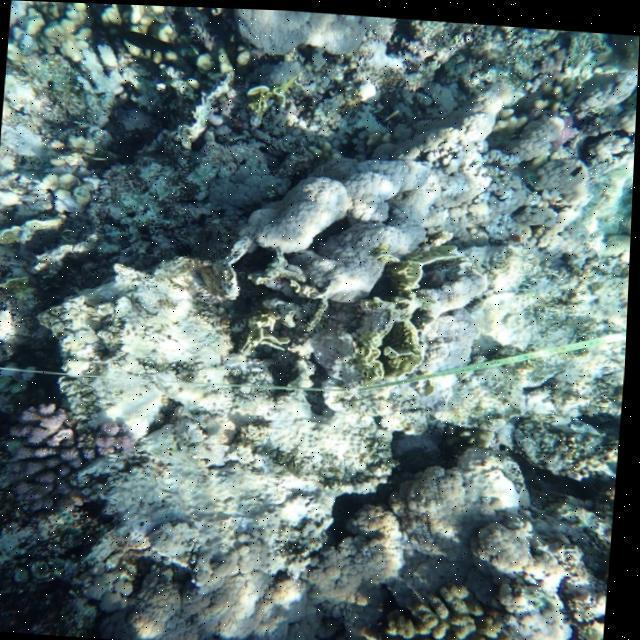Bleached Coral: (85, 425, 354, 640), (240, 118, 480, 300), (42, 244, 274, 416), (423, 452, 595, 640), (450, 78, 592, 250), (197, 6, 403, 120), (82, 13, 146, 109)
